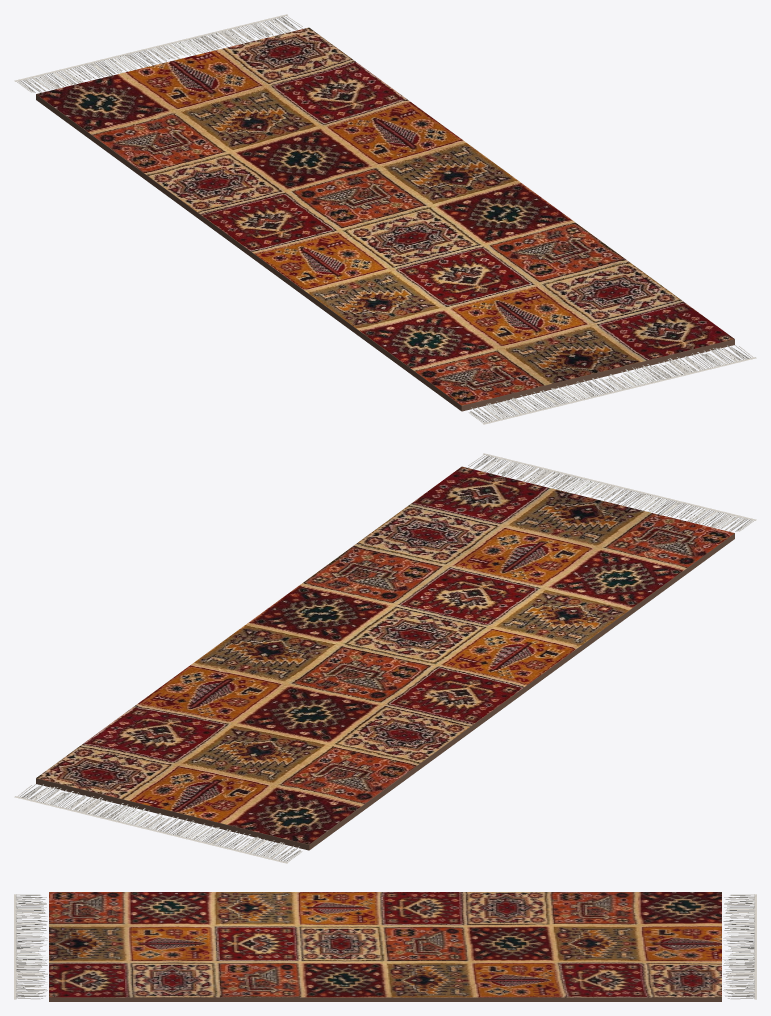
3 renders of one model, top to bottom at view 1: azimuth 30°, elevation 25°; view 2: azimuth 150°, elevation 25°; view 3: azimuth 270°, elevation 25°, orthographic. The views are drawn at different scales.
Parts seen in each view (by area): view 1: rug, side, fringeB, fringeA; view 2: rug, side, fringeA, fringeB; view 3: rug, side, fringeB, fringeA.
Boxes of the visible parts, left/top/right/bottom form: rug: left=36, top=27, right=734, bottom=405; side: left=36, top=94, right=734, bottom=411; fringeB: left=468, top=345, right=756, bottom=424; fringeA: left=14, top=14, right=302, bottom=92; rug: left=36, top=466, right=734, bottom=844; side: left=36, top=533, right=734, bottom=850; fringeA: left=14, top=784, right=302, bottom=863; fringeB: left=468, top=453, right=756, bottom=531; rug: left=49, top=892, right=721, bottom=997; side: left=49, top=997, right=721, bottom=1001; fringeB: left=14, top=894, right=47, bottom=999; fringeA: left=723, top=894, right=756, bottom=999.
Size of what is drawn, in the model's own units: 0.5 by 0.0102 by 1.49.
2 materials, 2 textured.
